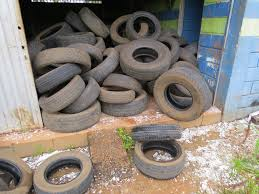tire: (152, 69, 208, 121), (32, 148, 95, 194), (38, 99, 105, 132), (134, 139, 186, 181), (119, 40, 171, 82), (40, 71, 90, 113), (1, 141, 33, 194), (33, 48, 93, 76), (31, 62, 86, 92), (79, 46, 120, 84), (99, 89, 150, 116), (107, 15, 151, 44), (125, 11, 162, 41), (129, 124, 185, 142), (33, 23, 76, 46), (96, 82, 138, 103)
